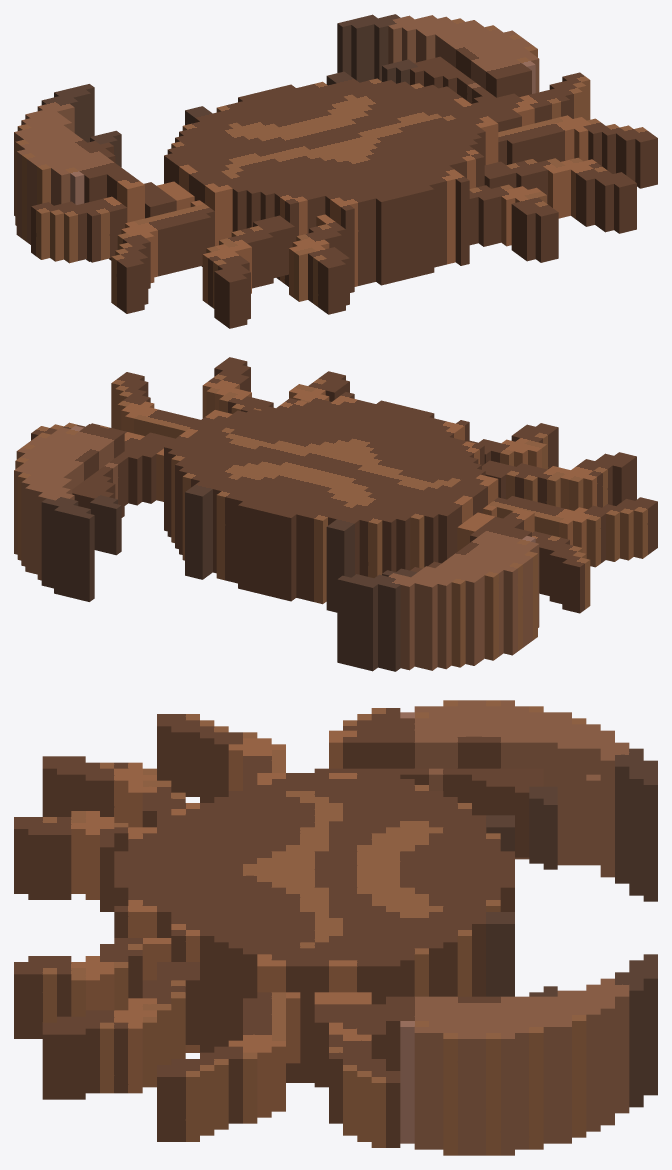
File: Crab_model (2).fbx
The picture shows the model from 3 angles, top to bottom: view 1: azimuth 30°, elevation 25°; view 2: azimuth 150°, elevation 25°; view 3: azimuth 270°, elevation 25°; orthographic projection. The views are drawn at different scales.
Parts seen in each view (by area): view 1: Crab_0; view 2: Crab_0; view 3: Crab_0.
Boxes of the visible parts, box(x1,y1,x2,y2) form: Crab_0: box(14, 14, 657, 328); Crab_0: box(14, 357, 657, 671); Crab_0: box(14, 700, 657, 1155).
Size of the model in its own units: 96.88 by 14.06 by 70.31.
Materials: 1 (1 with a texture image).
